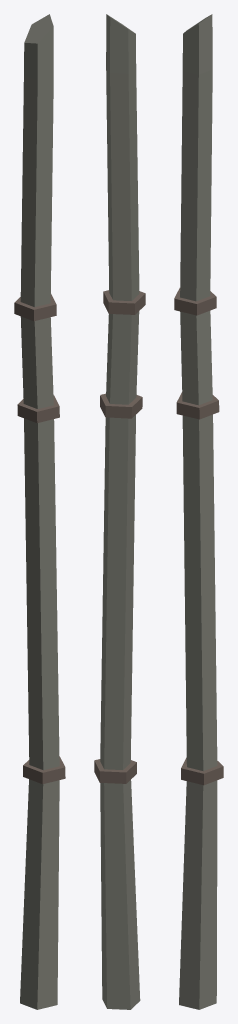
Rendered from LP_PostApoc_Post.fbx.
3 views of the same model, side by side, from view 1: azimuth 30°, elevation 25°; view 2: azimuth 210°, elevation 25°; view 3: azimuth 330°, elevation 25° (orthographic).
Parts seen in each view (by area): view 1: Post; view 2: Post; view 3: Post.
Part boxes in pixels (<box>): Post: <box>14,14,65,1009</box>; Post: <box>94,14,145,1009</box>; Post: <box>174,14,223,1009</box>.
Size of the model in its own units: 22.53 by 474 by 18.48.
